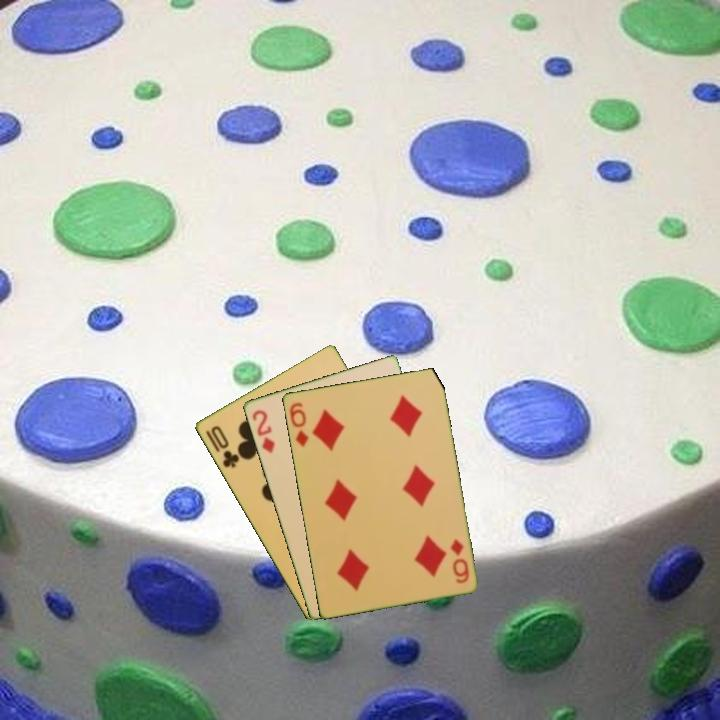10c: (207, 422, 242, 471)
2d: (248, 406, 277, 456)
6d: (285, 399, 311, 450), (447, 535, 472, 586)
